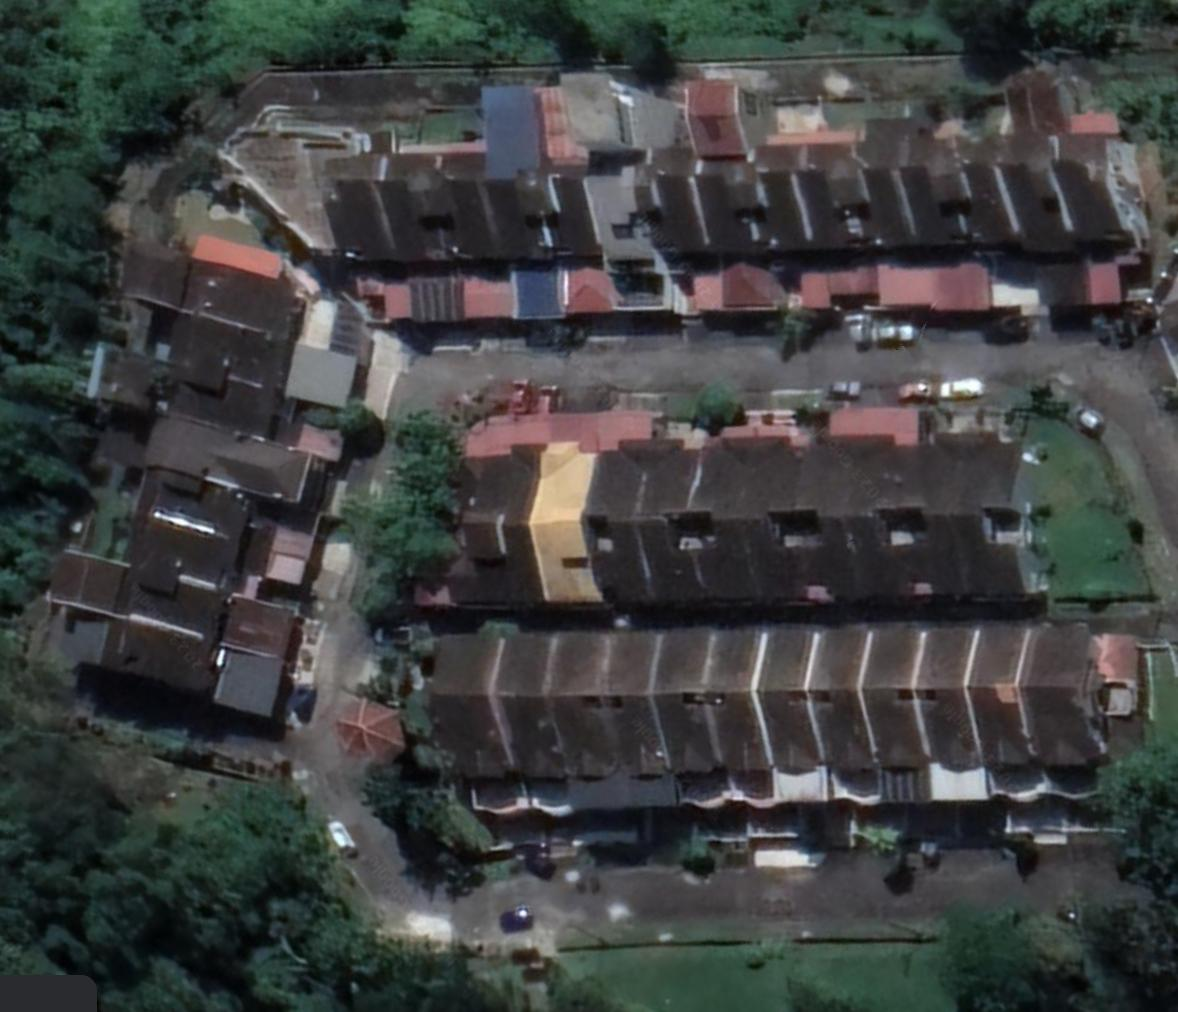building: (208, 99, 410, 331), (400, 372, 565, 614), (115, 223, 379, 364), (18, 601, 305, 728), (40, 541, 313, 667), (78, 338, 346, 462), (682, 75, 788, 323), (139, 301, 362, 413), (582, 67, 674, 325), (478, 78, 572, 330), (929, 426, 1052, 607), (423, 628, 531, 823), (137, 408, 332, 514), (868, 398, 962, 612), (539, 75, 614, 329), (117, 508, 321, 600), (809, 401, 898, 609), (132, 468, 330, 559), (1055, 149, 1158, 316), (761, 88, 835, 319), (751, 417, 835, 618), (657, 621, 742, 817), (1030, 615, 1116, 808), (502, 624, 582, 826), (812, 616, 892, 816), (698, 416, 779, 613), (587, 404, 662, 612), (921, 614, 998, 812), (710, 620, 788, 815), (645, 412, 720, 614), (559, 625, 637, 819), (1008, 148, 1098, 316), (389, 133, 465, 330), (762, 620, 839, 812), (536, 405, 608, 610), (870, 612, 942, 814), (966, 152, 1052, 318), (807, 122, 882, 312), (977, 615, 1048, 812), (611, 624, 682, 818), (866, 112, 932, 316), (449, 135, 519, 327), (651, 147, 725, 323), (911, 158, 992, 318)
